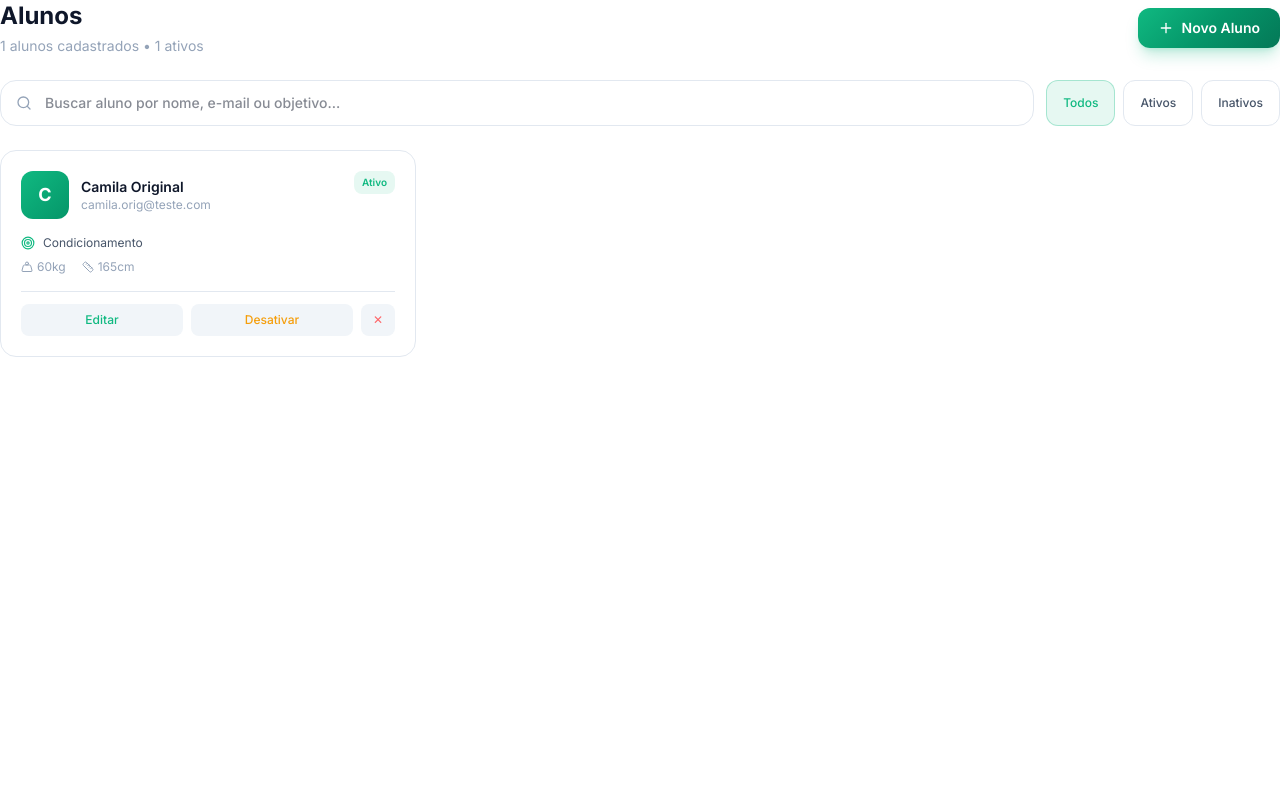
StudentsPage — Student login provisioning error handling › should roll back existing student fields if userService.register fails while provisioning access
Expected: the heading "Camila Original" is shown, x1=81 y1=178 x2=184 y2=195
Click the button "Editar" at [102, 320], box x1=21 y1=304 x2=183 y2=336
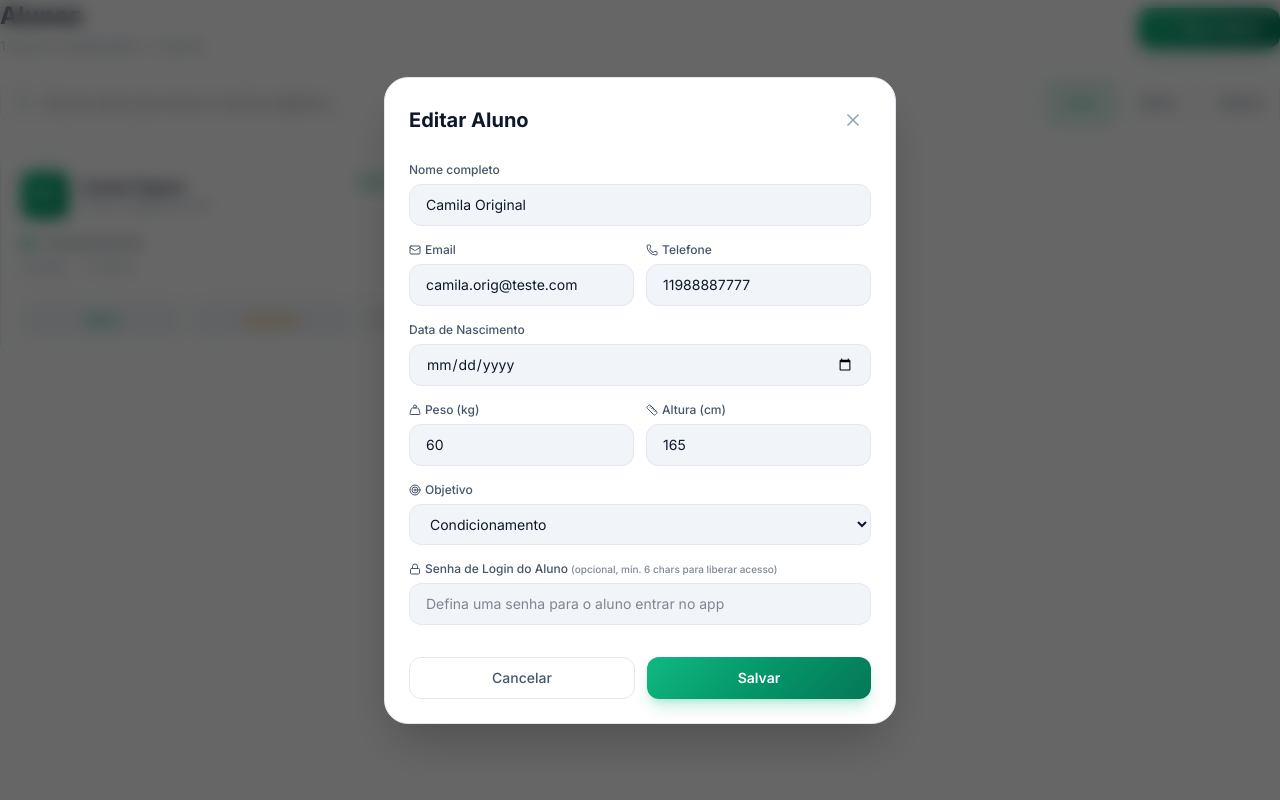
Replace the text in the field below "Nome completo" with "Camila Alterada" at [640, 204], box x1=409 y1=184 x2=871 y2=226
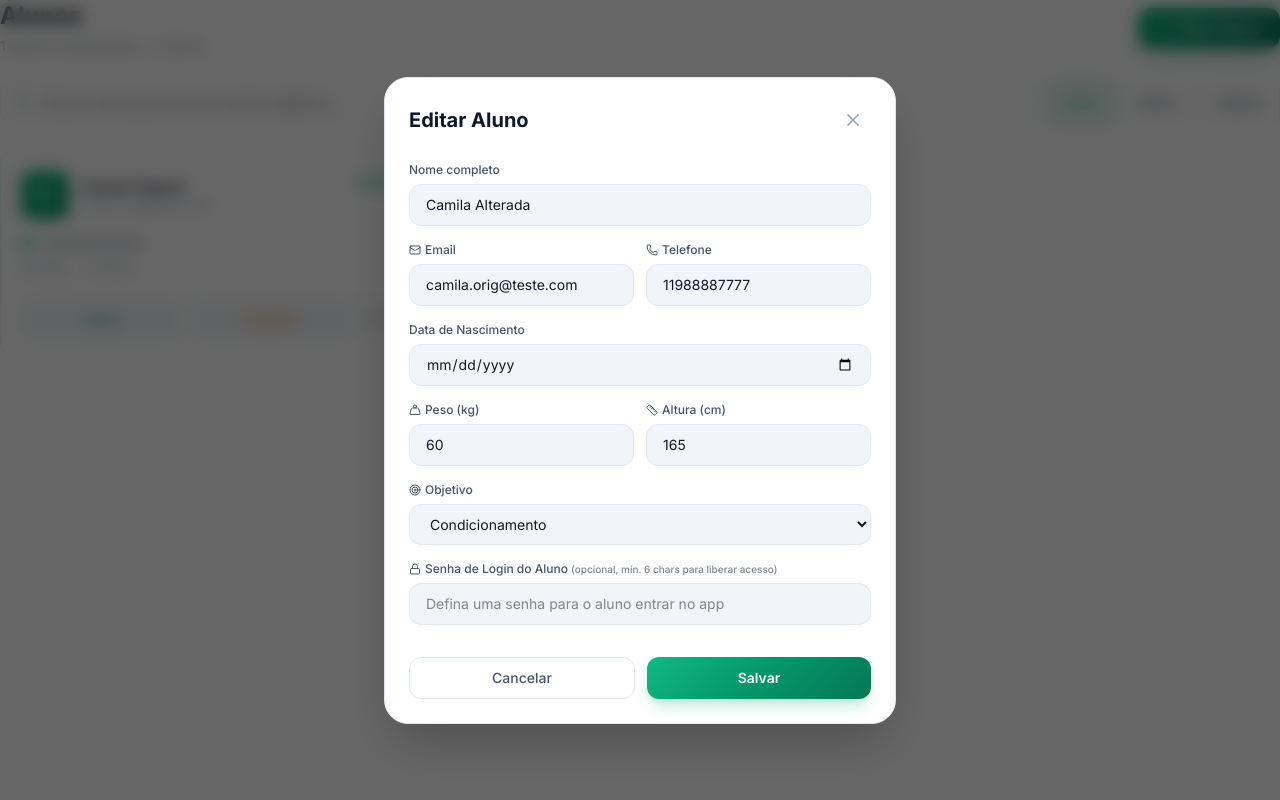
Replace the text in the field below "Email" with "camila.nova@teste.com" at [522, 284], box x1=409 y1=264 x2=634 y2=306
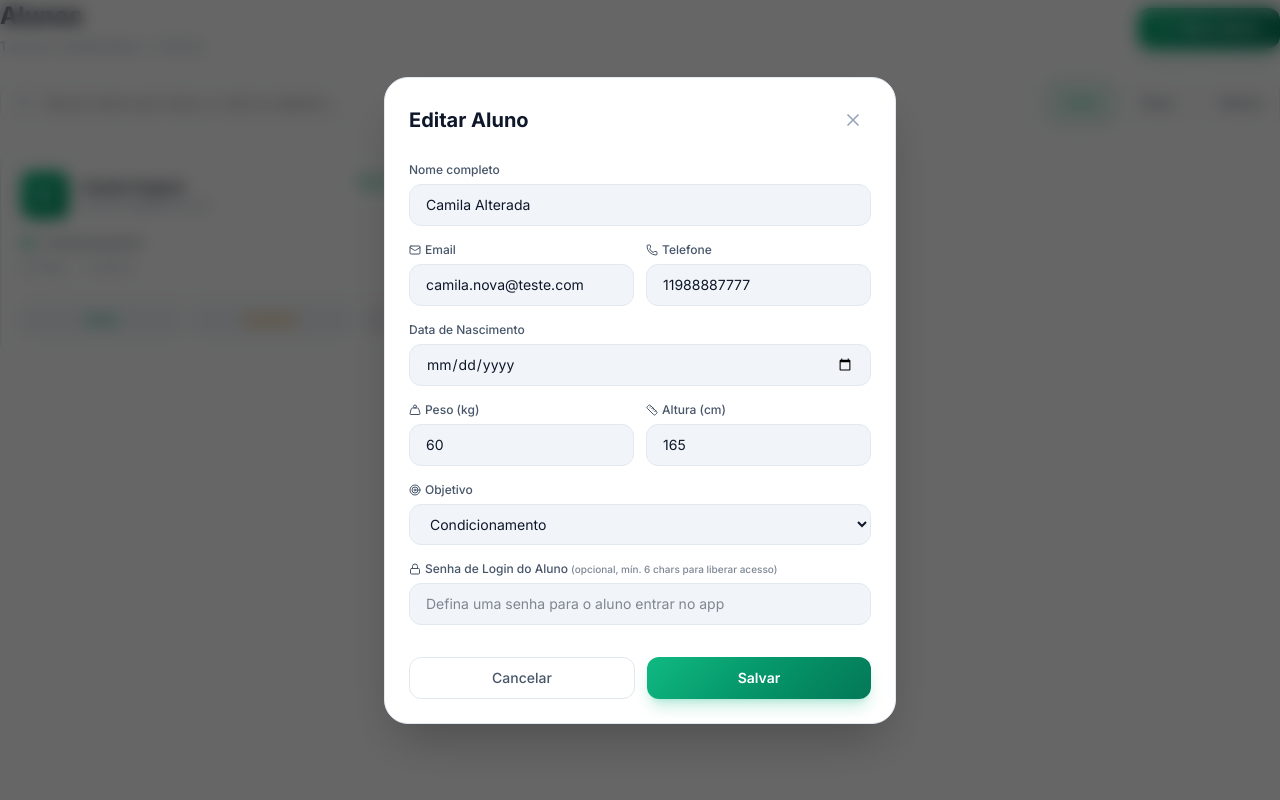
Type "senha123" into the password field with placeholder "Defina uma senha para o aluno entrar no app" at [640, 604], box x1=409 y1=582 x2=871 y2=624
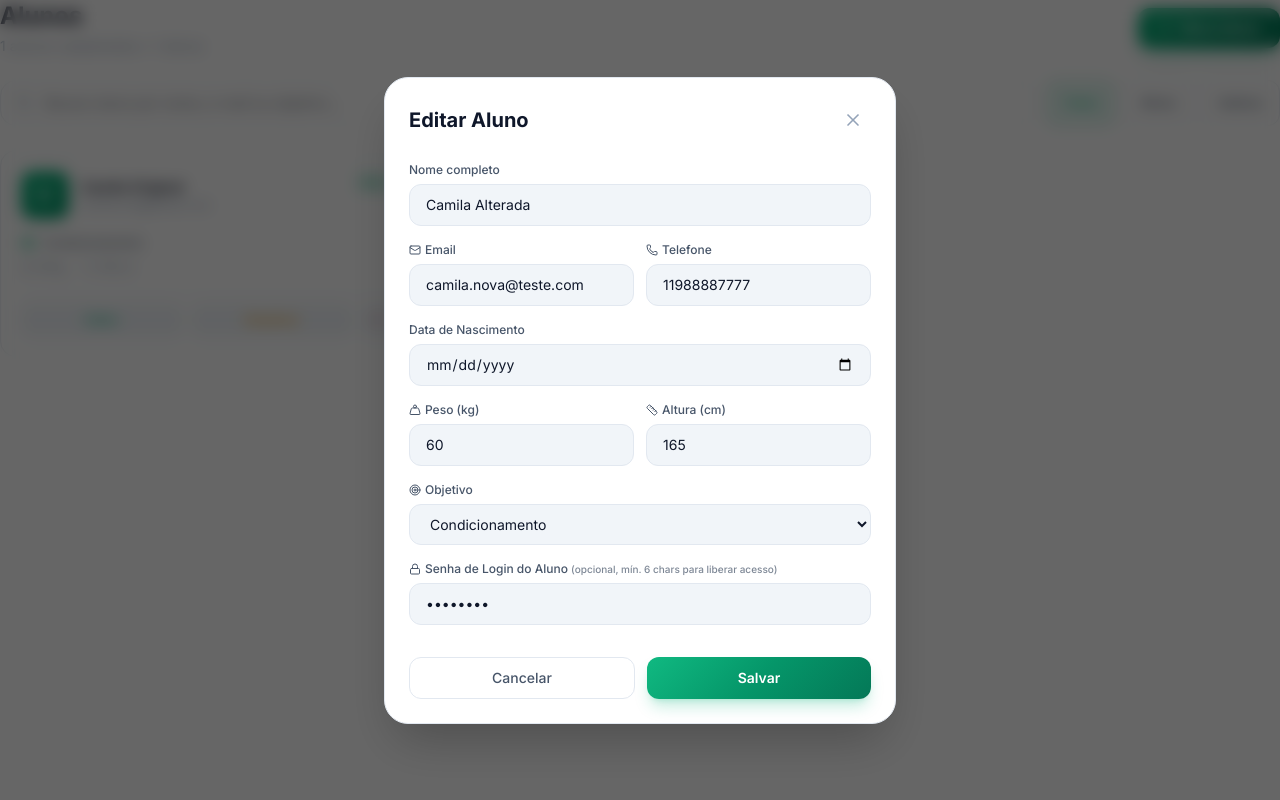
Click the button "Salvar" at [759, 678], box x1=647 y1=656 x2=871 y2=698
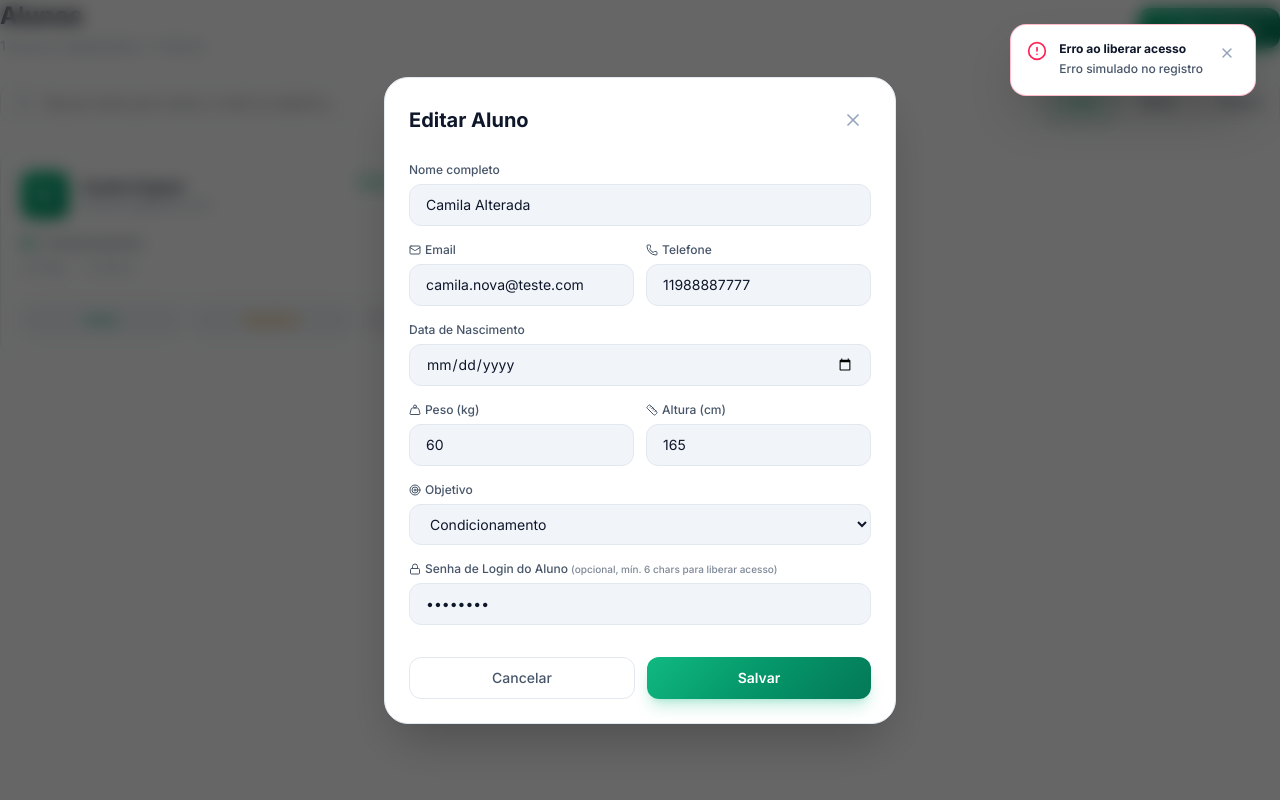
Expected: the dialog is shown, x1=384 y1=76 x2=896 y2=724
Expected: the text "Erro simulado no registro" is shown, x1=1059 y1=59 x2=1203 y2=78
